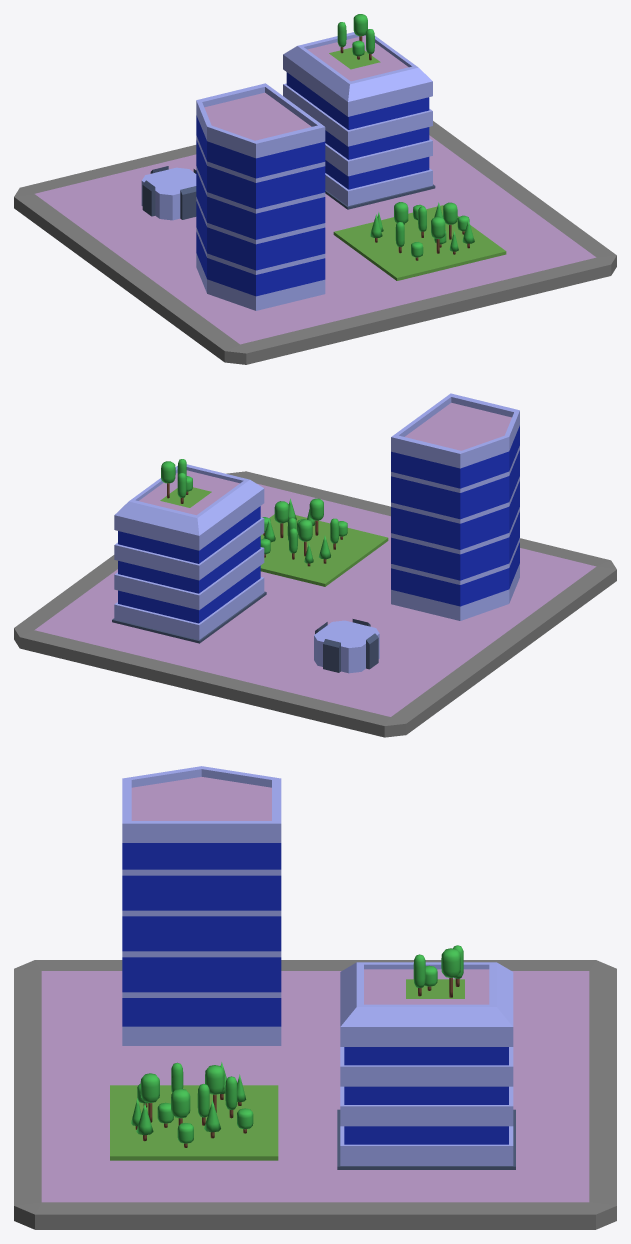
Rendered from houseblock.fbx.
3 renders of one model, top to bottom at view 1: azimuth 30°, elevation 25°; view 2: azimuth 150°, elevation 25°; view 3: azimuth 270°, elevation 25°, orthographic. The views are drawn at different scales.
Visible parts, largest first — view 1: HouseBlock; view 2: HouseBlock; view 3: HouseBlock.
Part boxes in pixels (<box>): HouseBlock: <box>14,14,616,364</box>; HouseBlock: <box>14,393,616,737</box>; HouseBlock: <box>14,766,616,1229</box>.
Size of the model in its own units: 100 by 43.7 by 100.
